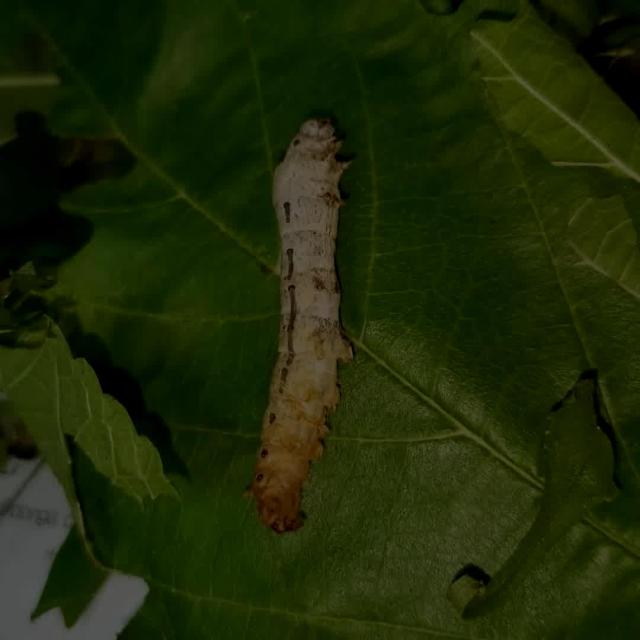Grasserie: (249, 97, 374, 552)
